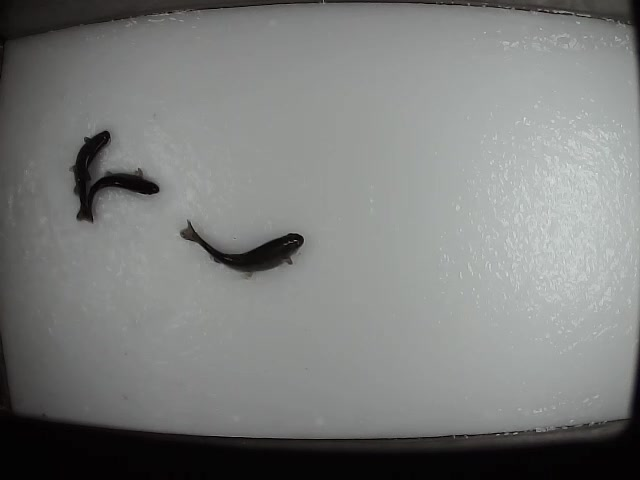Fish: (180, 219, 304, 272), (84, 168, 159, 224), (69, 131, 110, 220)
